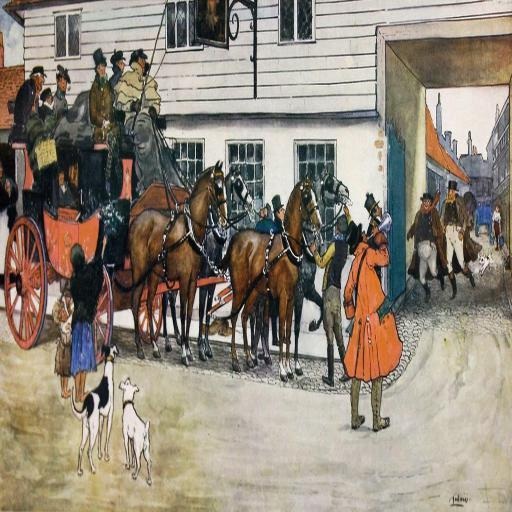horse: (250, 164, 352, 368), (120, 160, 226, 354), (216, 175, 320, 369), (160, 160, 254, 359)
